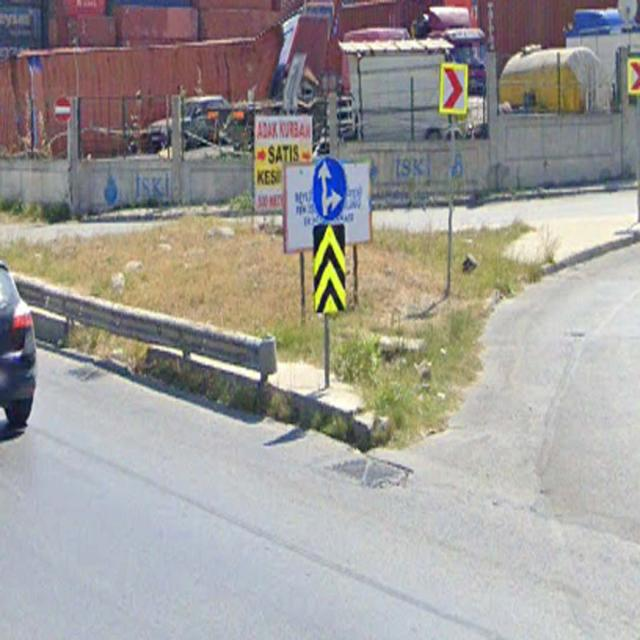girisyok: (53, 95, 71, 123)
ilerisag: (313, 155, 346, 221)
